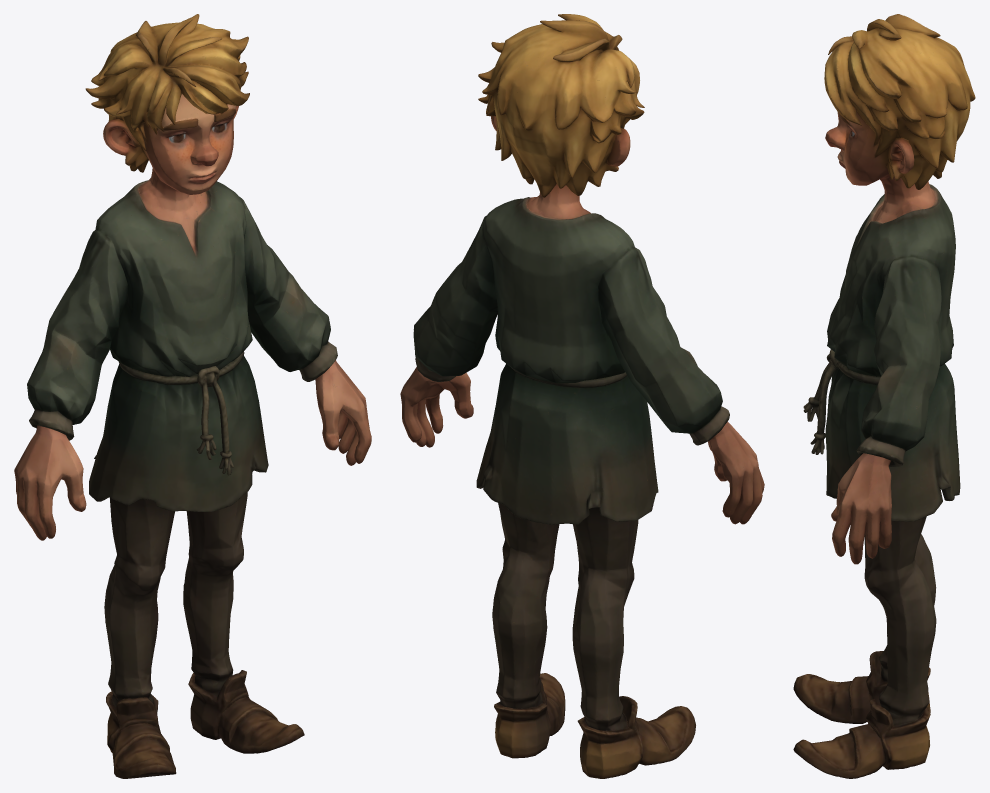
File: boy.glb
3 renders of one model, left to right at view 1: azimuth 30°, elevation 25°; view 2: azimuth 150°, elevation 25°; view 3: azimuth 270°, elevation 25°, orthographic. The views are drawn at different scales.
Visible parts, largest first — view 1: world; view 2: world; view 3: world.
Part boxes in pixels (bbox=[...]): world: bbox=[14, 14, 371, 778]; world: bbox=[400, 14, 764, 778]; world: bbox=[793, 14, 975, 778].
Size of the model in its own units: 0.4998 by 1 by 0.2312.
Materials: 1 (1 with a texture image).
